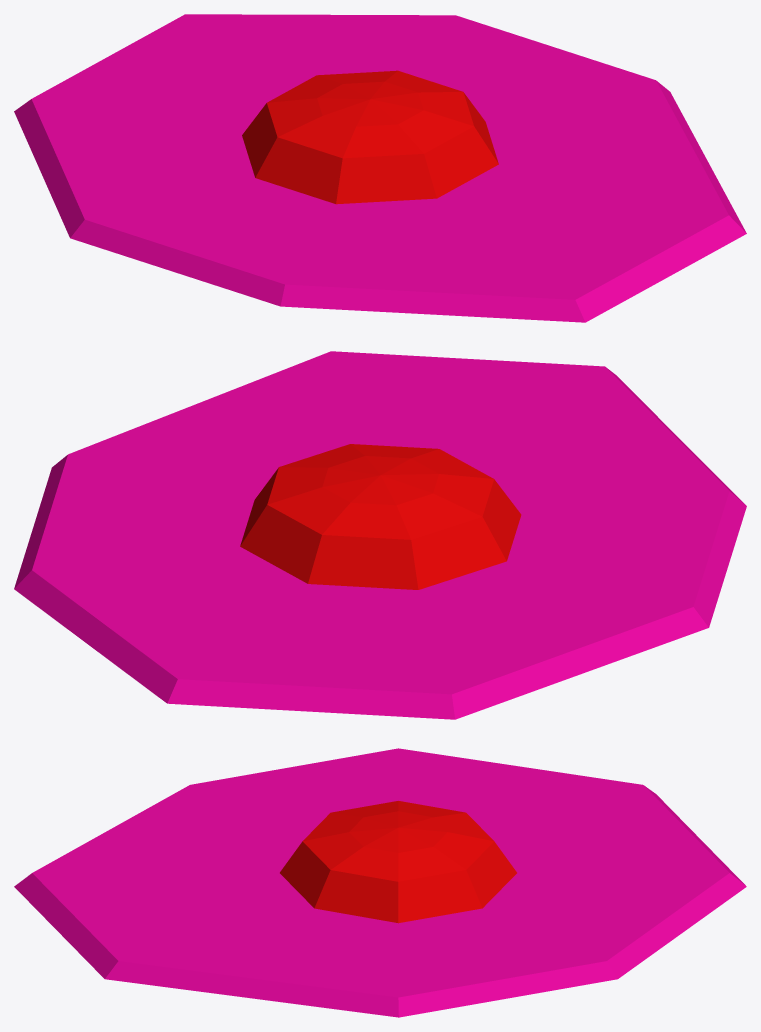
Rendered from Egg_02.fbx.
3 renders of one model, top to bottom at view 1: azimuth 30°, elevation 25°; view 2: azimuth 150°, elevation 25°; view 3: azimuth 270°, elevation 25°, orthographic. The views are drawn at different scales.
Parts seen in each view (by area): view 1: Egg_02; view 2: Egg_02; view 3: Egg_02.
Part boxes in pixels (left/top/right/bottom): Egg_02: left=14, top=14, right=746, bottom=322; Egg_02: left=14, top=351, right=746, bottom=719; Egg_02: left=14, top=748, right=746, bottom=1017.
Size of the model in its own units: 8.11 by 0.8671 by 9.6.
